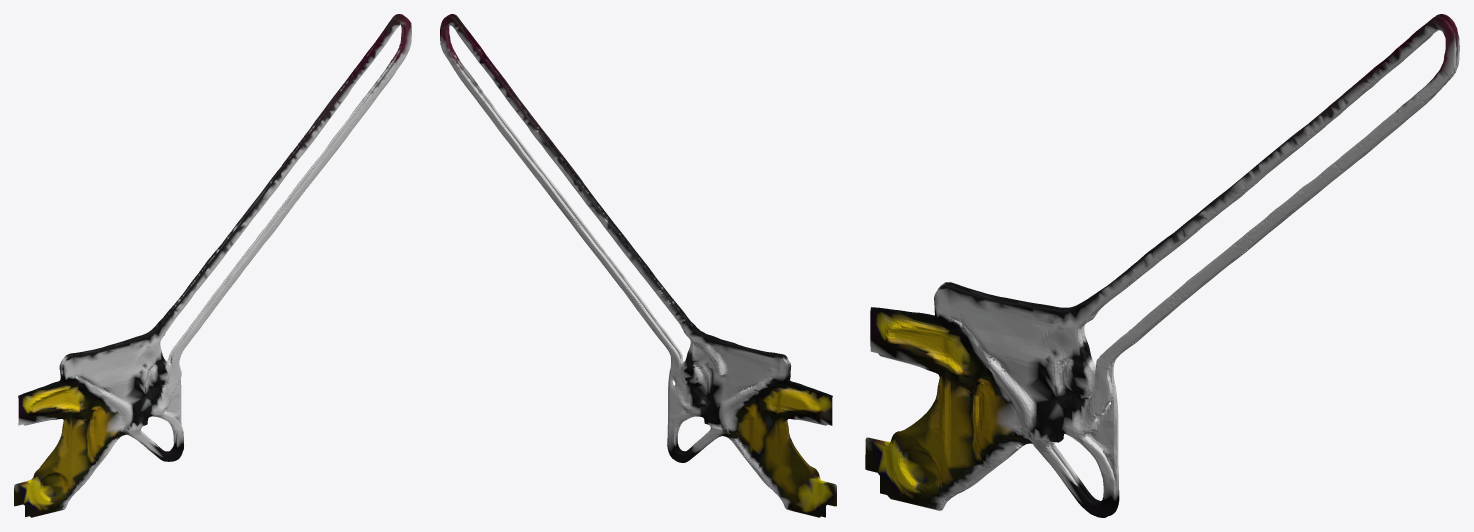
The model's file is rapier.glb.
3 renders of one model, left to right at view 1: azimuth 30°, elevation 25°; view 2: azimuth 150°, elevation 25°; view 3: azimuth 330°, elevation 25°, orthographic. The views are drawn at different scales.
Visible parts, largest first — view 1: geometry_0; view 2: geometry_0; view 3: geometry_0.
Boxes of the visible parts, x1,y1,x2,y2 form: geometry_0: (14, 14, 411, 517); geometry_0: (440, 14, 836, 517); geometry_0: (865, 14, 1459, 517).
Size of the model in its own units: 0.9688 by 0.9655 by 0.0347.
